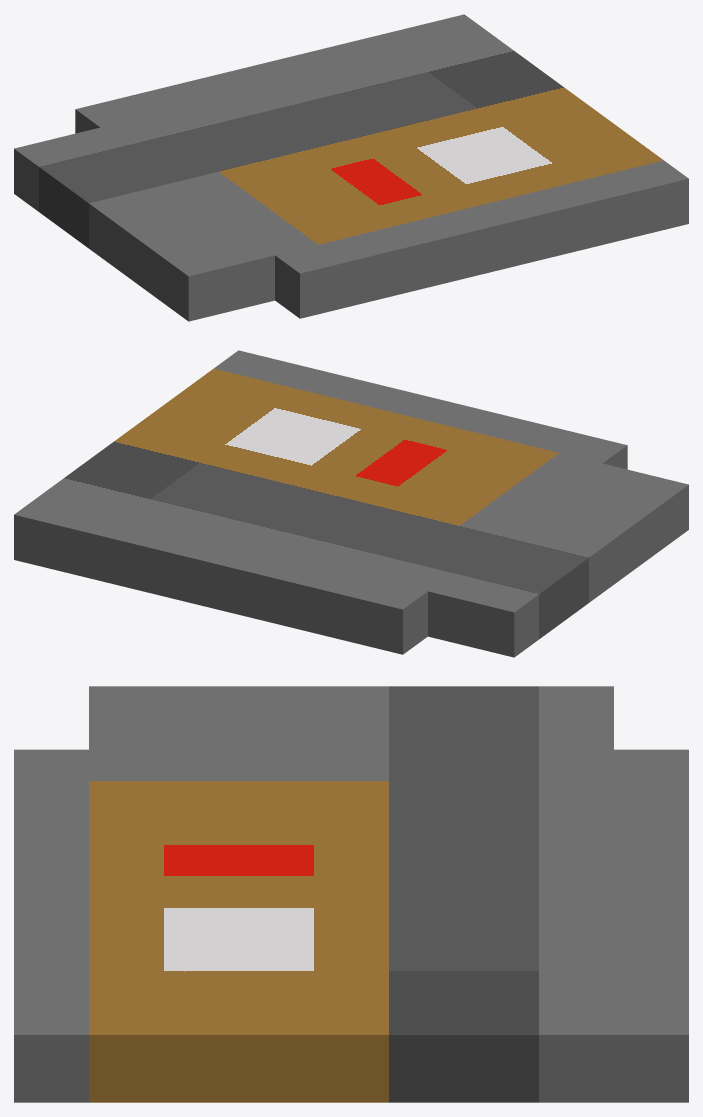
Rendered from cartridge3.fbx.
3 renders of one model, top to bottom at view 1: azimuth 30°, elevation 25°; view 2: azimuth 150°, elevation 25°; view 3: azimuth 270°, elevation 25°, orthographic. The views are drawn at different scales.
Parts seen in each view (by area): view 1: cartridge3; view 2: cartridge3; view 3: cartridge3.
Boxes of the visible parts, x1,y1,x2,y2 form: cartridge3: [14, 14, 688, 321]; cartridge3: [14, 350, 688, 657]; cartridge3: [14, 686, 688, 1102].
Size of the model in its own units: 11 by 1 by 9.
